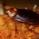cockroach: (4, 6, 39, 26)
